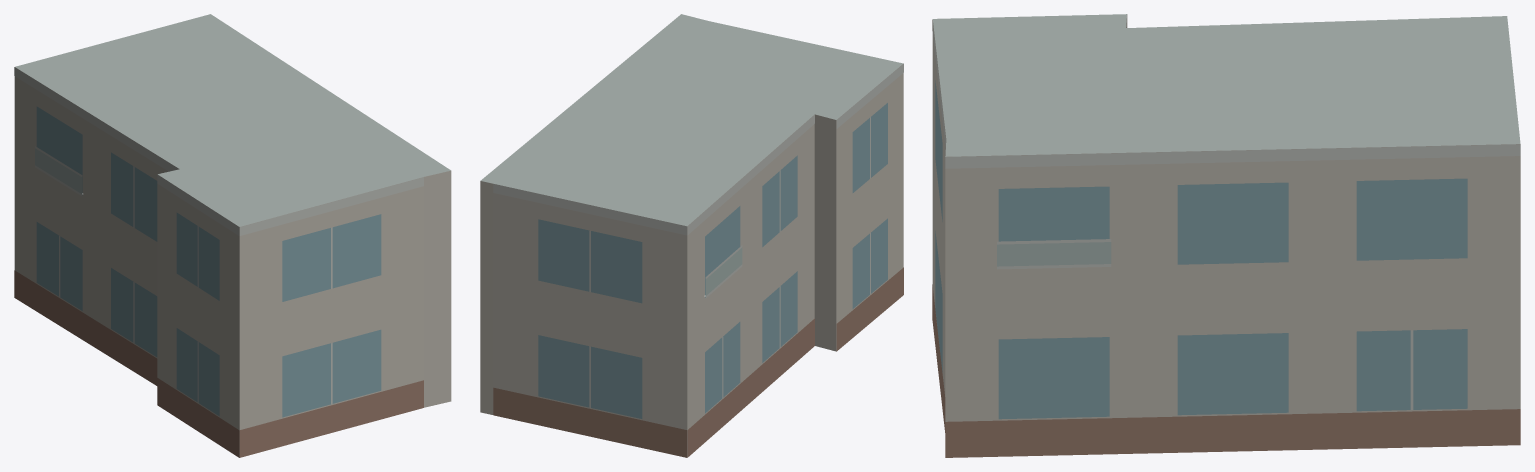
File: survey-upis-32635185.glb
3 renders of one model, left to right at view 1: azimuth 30°, elevation 25°; view 2: azimuth 150°, elevation 25°; view 3: azimuth 270°, elevation 25°, orthographic. The views are drawn at different scales.
Visible parts, largest first — view 1: survey-upis-32635185.tmp; view 2: survey-upis-32635185.tmp; view 3: survey-upis-32635185.tmp.
Boxes of the visible parts, x1,y1,x2,y2 form: survey-upis-32635185.tmp: [14, 14, 451, 457]; survey-upis-32635185.tmp: [480, 14, 903, 457]; survey-upis-32635185.tmp: [932, 14, 1520, 457].
Bounding box in the file's own units: 6.21 × 6.1 × 10.8.
